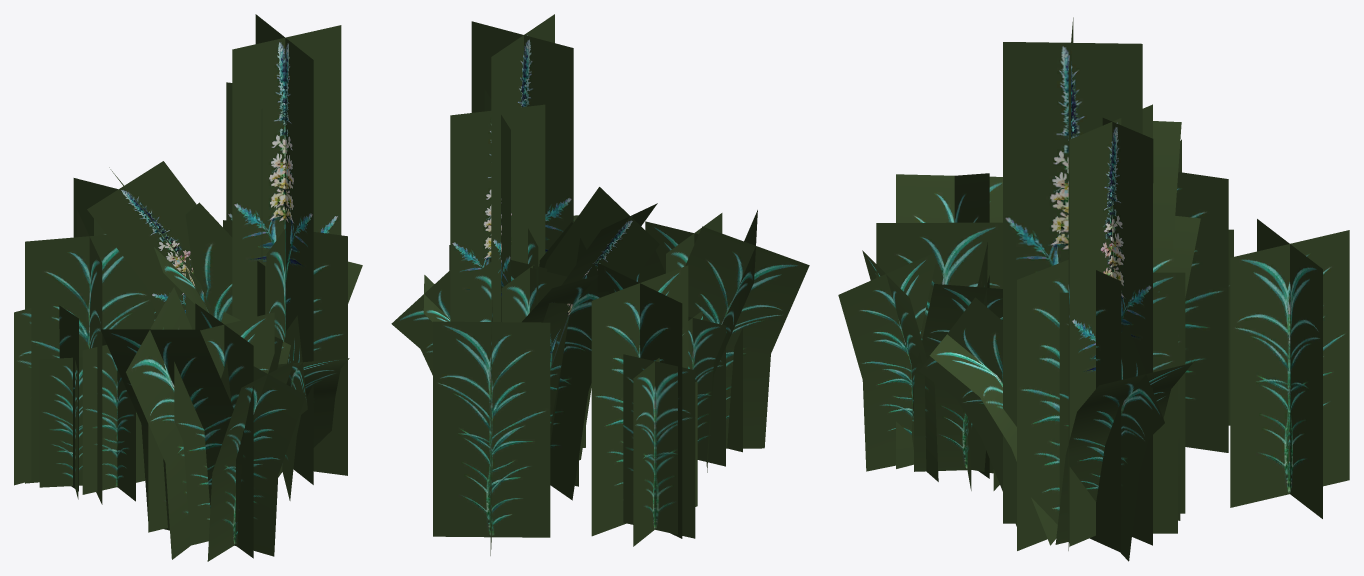
Rendered from S_Plant_Blue003.FBX.
The picture shows the model from 3 angles, left to right: view 1: azimuth 30°, elevation 25°; view 2: azimuth 150°, elevation 25°; view 3: azimuth 270°, elevation 25°; orthographic projection. The views are drawn at different scales.
Visible parts, largest first — view 1: S_Plant_Blue003; view 2: S_Plant_Blue003; view 3: S_Plant_Blue003.
Part boxes in pixels (x1,y1,x2,y2): S_Plant_Blue003: [14, 14, 362, 561]; S_Plant_Blue003: [391, 14, 809, 555]; S_Plant_Blue003: [838, 17, 1349, 561].
Size of the model in its own units: 80.67 by 98.19 by 106.
